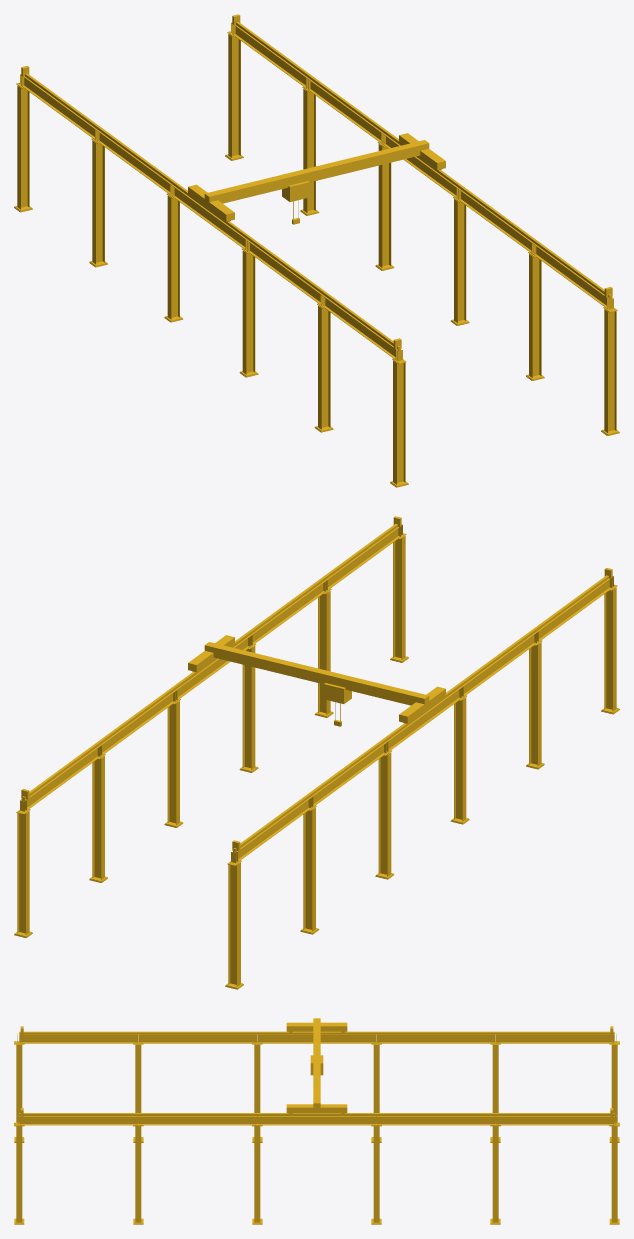
The model's file is crane.glb.
3 views of the same model, one above another, from view 1: azimuth 30°, elevation 25°; view 2: azimuth 150°, elevation 25°; view 3: azimuth 270°, elevation 25° (orthographic). The views are drawn at different scales.
Parts seen in each view (by area): view 1: crane; view 2: crane; view 3: crane.
Boxes of the visible parts, x1,y1,x2,y2 form: crane: (14,14,619,487); crane: (14,516,619,989); crane: (14,1018,619,1224).
Bounding box in the file's own units: 8.58 × 5.58 × 25.45.
